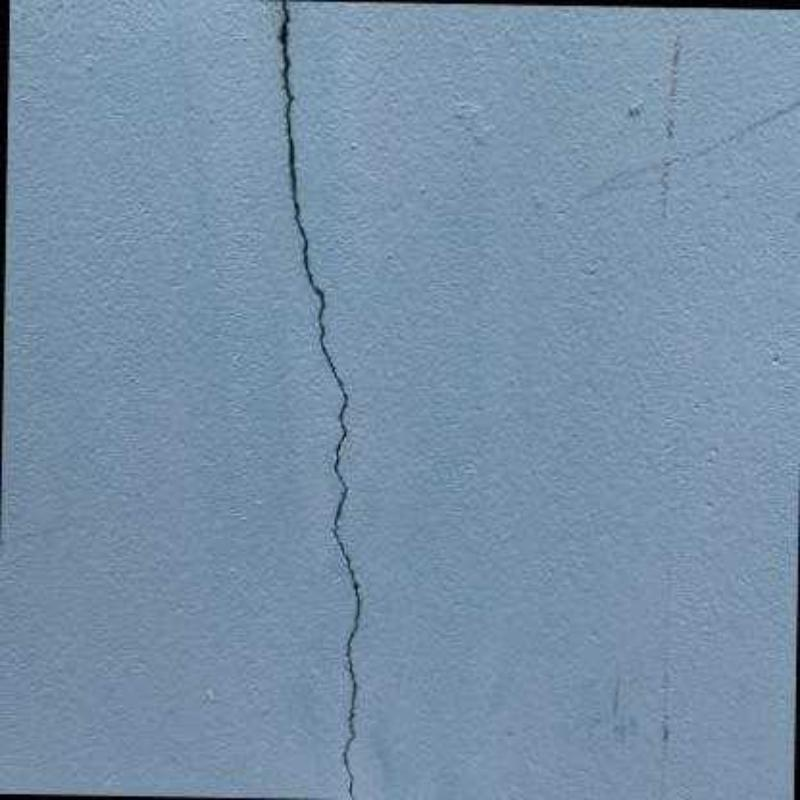crack: (278, 1, 361, 798)
